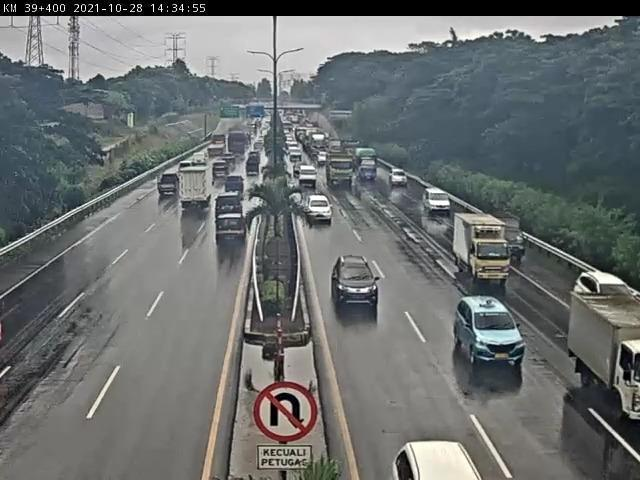car: (452, 288, 531, 374), (391, 437, 495, 480), (330, 250, 381, 314), (210, 207, 253, 248), (301, 191, 338, 231), (423, 181, 456, 219), (156, 165, 184, 201), (215, 190, 247, 221), (222, 171, 249, 197), (294, 165, 322, 190), (388, 167, 415, 188)
truck: (566, 264, 640, 432), (452, 208, 514, 284), (177, 163, 218, 209), (500, 210, 535, 261), (324, 149, 358, 194), (355, 141, 389, 182)
